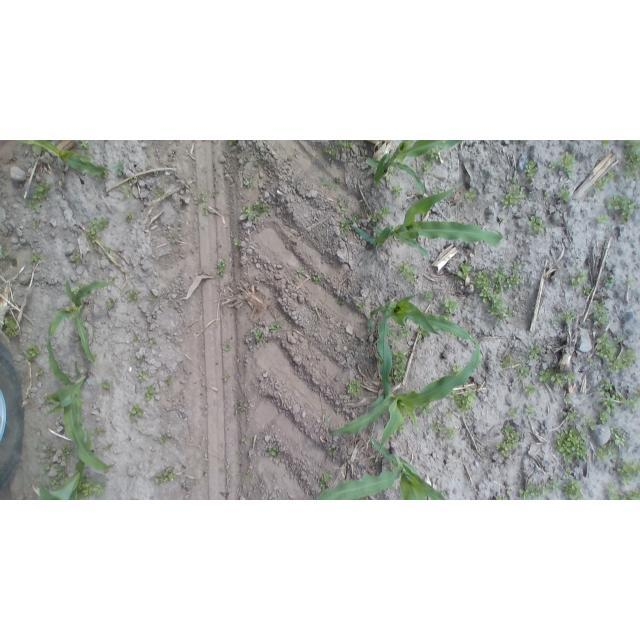Maize: (328, 340, 480, 462), (368, 294, 484, 394), (351, 186, 502, 257), (47, 324, 117, 470), (316, 439, 447, 500), (52, 280, 123, 364), (366, 142, 461, 195), (38, 431, 92, 500), (22, 140, 111, 174)
Weeds: (474, 271, 513, 319), (595, 334, 624, 373), (556, 427, 589, 459), (496, 424, 520, 457), (607, 194, 635, 222), (615, 386, 640, 410), (605, 483, 639, 500), (617, 461, 640, 485), (500, 185, 525, 207), (558, 151, 575, 179), (451, 391, 475, 410), (548, 367, 576, 382), (593, 301, 610, 325), (564, 479, 583, 500), (31, 182, 53, 199), (623, 147, 640, 169), (528, 480, 551, 496), (528, 215, 545, 234), (398, 261, 414, 281), (623, 347, 637, 368), (440, 296, 456, 314), (611, 427, 626, 446), (596, 445, 617, 458), (570, 272, 588, 287), (558, 187, 572, 206), (495, 270, 506, 294), (239, 208, 258, 221), (525, 160, 538, 177), (4, 318, 18, 333), (459, 263, 472, 279), (347, 380, 361, 394), (507, 274, 522, 287), (93, 217, 110, 228), (605, 396, 616, 413), (562, 310, 575, 324), (564, 408, 579, 420), (564, 458, 574, 476), (325, 444, 337, 459), (465, 188, 476, 204), (395, 364, 406, 380), (253, 328, 264, 344), (599, 378, 613, 390), (269, 320, 283, 332), (28, 345, 39, 360), (525, 348, 540, 359), (130, 405, 143, 417), (394, 350, 407, 362), (603, 275, 616, 287), (146, 385, 155, 402), (84, 478, 92, 497), (422, 160, 434, 172), (433, 420, 445, 432), (254, 201, 267, 212), (61, 446, 71, 460), (552, 476, 561, 491), (95, 483, 106, 495), (595, 214, 607, 225), (519, 365, 531, 376), (583, 418, 595, 429), (55, 466, 65, 479), (421, 289, 434, 299), (598, 177, 608, 190), (320, 473, 333, 483), (341, 219, 350, 233), (525, 383, 536, 394), (520, 489, 531, 500), (310, 271, 322, 281), (502, 354, 512, 366), (369, 212, 382, 221), (391, 186, 402, 196), (381, 206, 392, 216), (539, 371, 549, 382), (565, 393, 576, 403), (50, 478, 59, 490), (23, 199, 35, 208), (338, 141, 350, 150), (625, 141, 640, 148), (447, 427, 455, 440), (45, 459, 55, 469), (155, 473, 164, 484), (69, 253, 80, 262), (542, 189, 551, 200), (352, 300, 364, 308), (335, 296, 347, 304), (598, 388, 610, 396), (164, 471, 174, 480), (127, 292, 137, 301), (238, 402, 248, 411), (269, 446, 278, 456), (296, 268, 305, 278), (35, 184, 46, 192), (600, 413, 608, 424), (199, 192, 206, 204), (584, 283, 591, 295), (33, 146, 42, 155), (526, 404, 535, 413), (352, 212, 362, 220), (613, 335, 623, 343), (35, 202, 42, 213), (550, 317, 561, 324), (101, 380, 109, 389), (1, 250, 9, 259), (217, 259, 226, 267), (429, 151, 438, 159), (402, 328, 411, 336), (138, 355, 145, 365), (107, 298, 114, 308), (421, 408, 434, 413), (217, 267, 225, 275), (139, 372, 146, 381), (127, 213, 134, 222), (90, 226, 97, 235), (155, 189, 164, 196), (81, 141, 90, 148), (418, 332, 427, 339), (149, 337, 155, 347), (165, 378, 172, 386), (33, 252, 40, 260), (622, 171, 630, 178), (495, 496, 508, 500), (159, 435, 166, 442), (242, 435, 248, 443), (244, 179, 250, 187), (511, 260, 517, 268), (449, 366, 461, 370), (32, 220, 37, 229), (509, 409, 515, 416), (224, 374, 229, 382), (103, 444, 111, 449), (550, 161, 555, 169), (46, 397, 51, 404), (225, 344, 230, 351), (463, 303, 468, 309), (499, 217, 503, 221)
